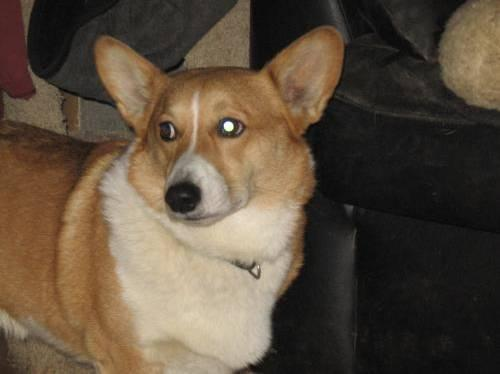dog: (0, 27, 342, 373)
